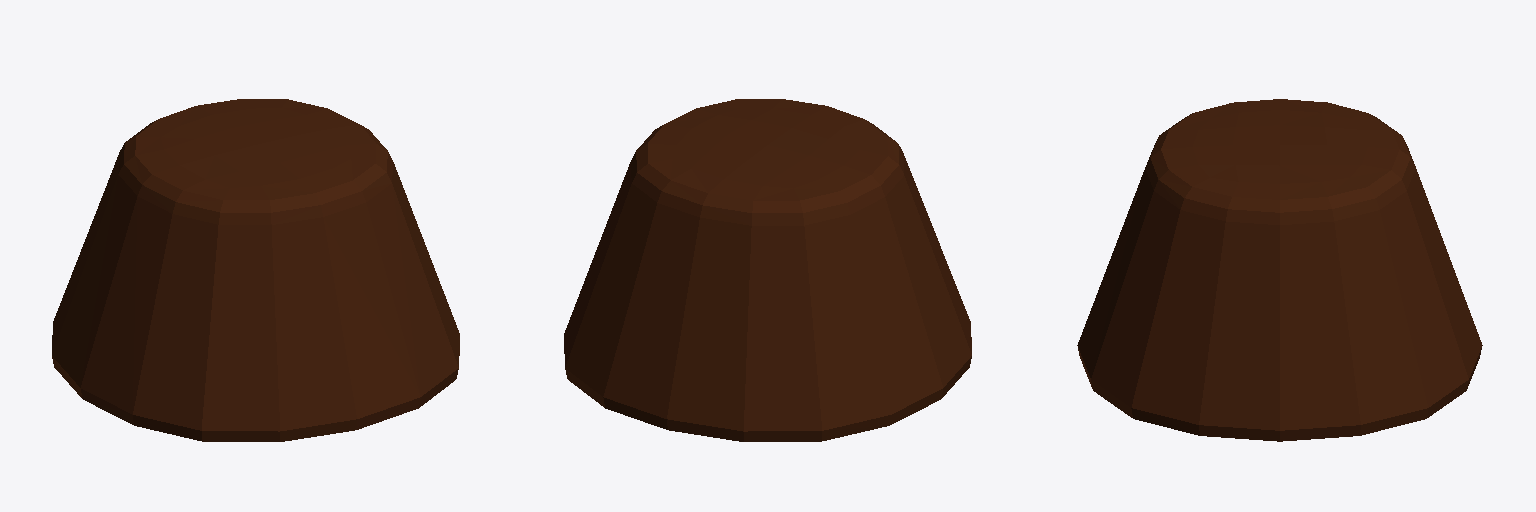
File: RockPlatforms_Medium.obj
3 renders of one model, left to right at view 1: azimuth 30°, elevation 25°; view 2: azimuth 150°, elevation 25°; view 3: azimuth 270°, elevation 25°, orthographic.
Parts seen in each view (by area): view 1: RockPlatforms_Medium_Cube.380; view 2: RockPlatforms_Medium_Cube.380; view 3: RockPlatforms_Medium_Cube.380.
Boxes of the visible parts, <box> form: RockPlatforms_Medium_Cube.380: <box>52,99,459,441</box>; RockPlatforms_Medium_Cube.380: <box>564,99,971,441</box>; RockPlatforms_Medium_Cube.380: <box>1077,99,1482,441</box>.
Bounding box in the file's own units: 4.81 × 2.91 × 4.81.